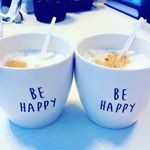cups: (74, 30, 150, 129), (1, 30, 75, 129)
